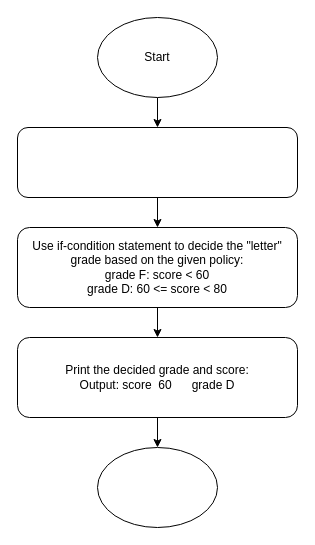
This 315x545 diagram has some shape labels left out. Each missing label, with the centre of its shape:
Ask user for an integer(score): point (157, 162)
End: point (157, 487)
